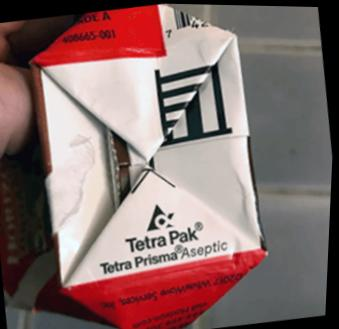cardboard: (0, 5, 266, 328), (0, 22, 57, 328)
